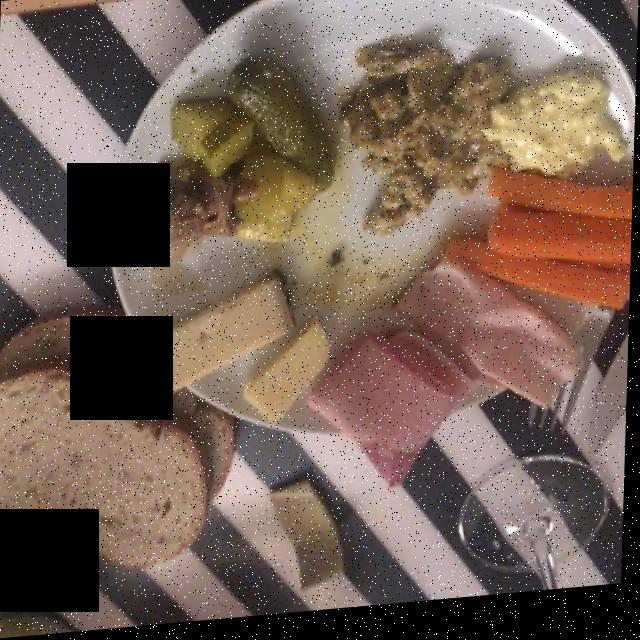bread-black: (0, 317, 234, 565)
carrot-raw: (437, 174, 632, 327)
cottage-cheese: (477, 91, 628, 186)
cucumber-pickled: (219, 69, 344, 189)
egg-scrambled-prepared: (348, 58, 514, 247)
ham: (309, 267, 602, 506)
hard-cheese: (138, 282, 335, 426)
